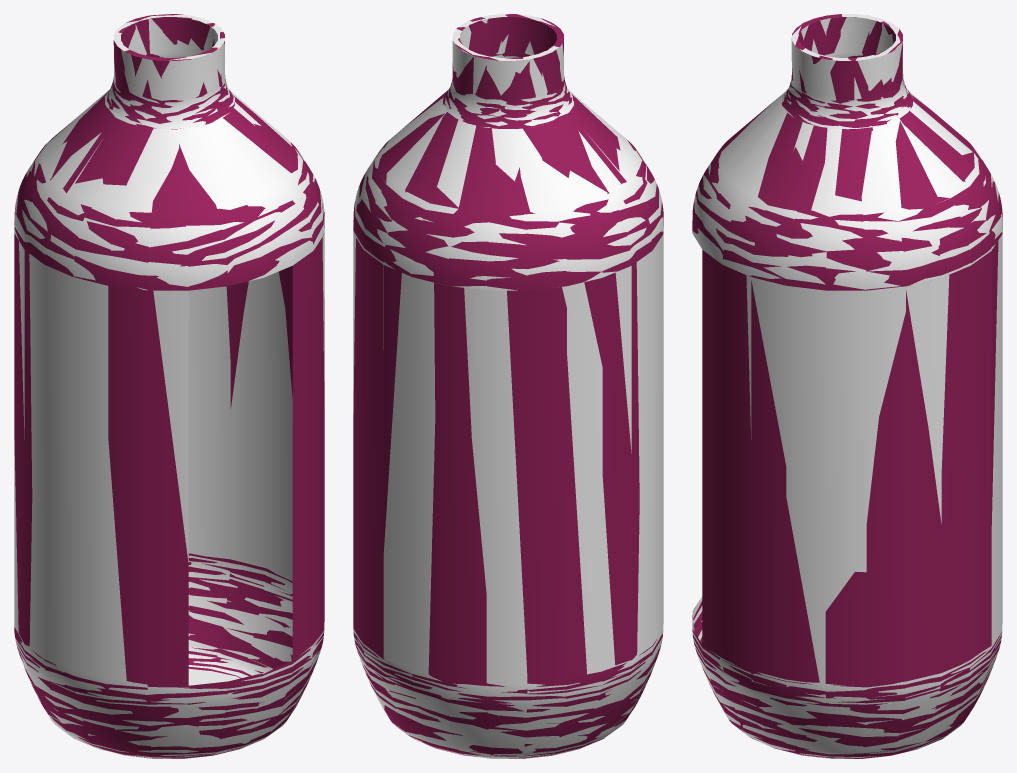
File: original_1.obj
3 views of the same model, side by side, from view 1: azimuth 30°, elevation 25°; view 2: azimuth 150°, elevation 25°; view 3: azimuth 270°, elevation 25° (orthographic).
Parts seen in each view (by area): view 1: #ID236; view 2: #ID236; view 3: #ID236.
Part boxes in pixels (bbox=[...]): #ID236: bbox=[14, 14, 324, 758]; #ID236: bbox=[353, 14, 663, 758]; #ID236: bbox=[692, 14, 1002, 758].
Bounding box in the file's own units: 0.5686 × 1.36 × 0.5686.
2 materials, 2 textured.
